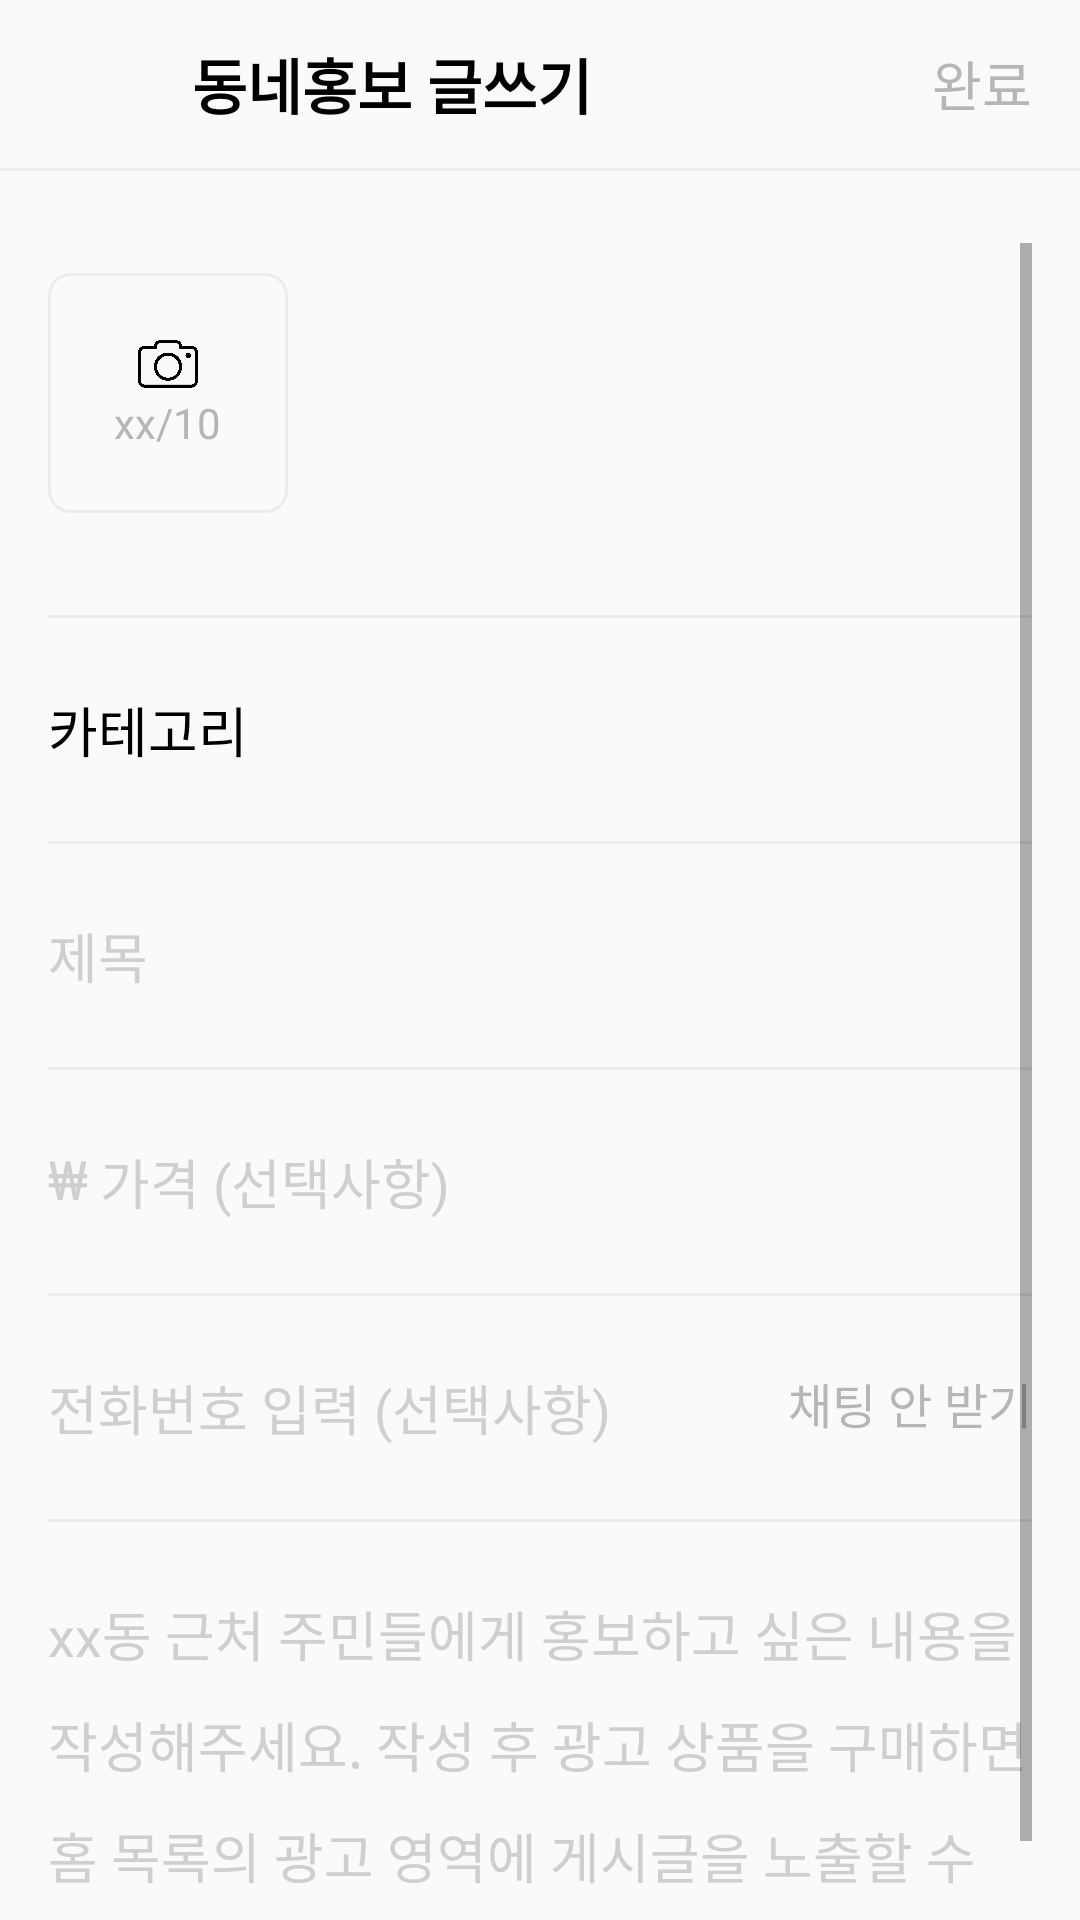

Named icons in this screenshot (1080w x 1920h) and their centers, (x,y):
add photo: (168,364)
